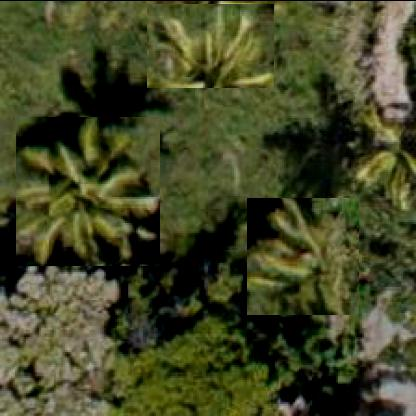coconut tree: (16, 114, 161, 264), (247, 196, 360, 314), (147, 2, 275, 87)
